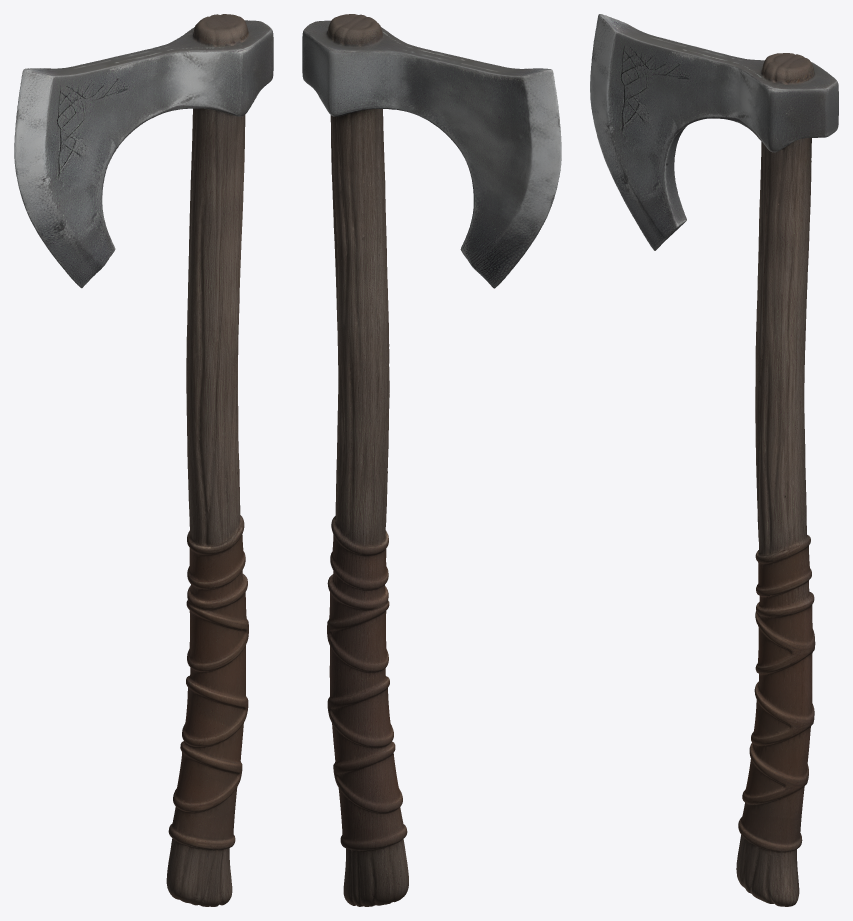
File: 2h_axe.glb
3 views of the same model, side by side, from view 1: azimuth 30°, elevation 25°; view 2: azimuth 150°, elevation 25°; view 3: azimuth 330°, elevation 25° (orthographic). The views are drawn at different scales.
Bounding box in the file's own units: 0.5729 × 1.9 × 0.1623.
1 material, 1 textured.
